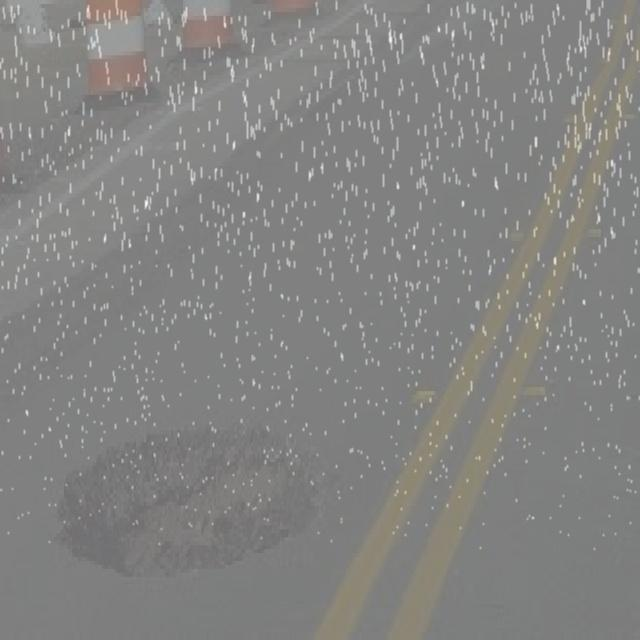Pothole: (27, 417, 345, 585)
